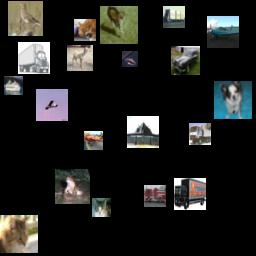airplane: (36, 89, 68, 121), (207, 16, 239, 48), (127, 116, 159, 148), (84, 131, 103, 150)
automobile: (171, 46, 200, 75)
bird: (8, 1, 43, 36)
cat: (100, 6, 138, 44), (0, 215, 38, 253), (74, 19, 96, 41), (92, 198, 111, 217)
deer: (67, 45, 93, 71)
dog: (214, 81, 252, 119)
frog: (55, 169, 90, 204)
ship: (4, 76, 23, 95), (122, 51, 138, 67)
truck: (174, 178, 206, 210), (18, 42, 50, 74), (163, 6, 185, 28), (189, 123, 211, 145), (144, 185, 166, 207)
